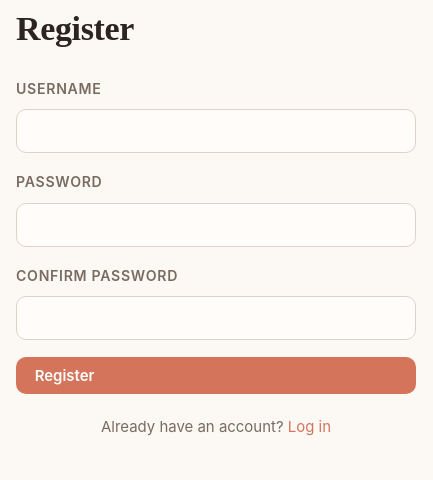
Test case: Register › shows password ok when long enough
Type "longenough" into the password field labelled "Password".
click(216, 225); type("longenough")  # box [16, 203, 416, 247]
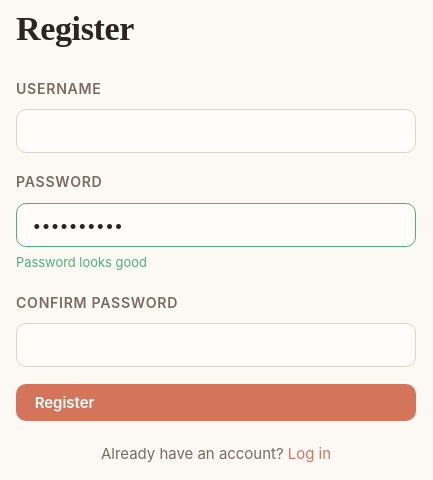
Expected: the text "Password looks good" is shown, [16, 254, 147, 270]
